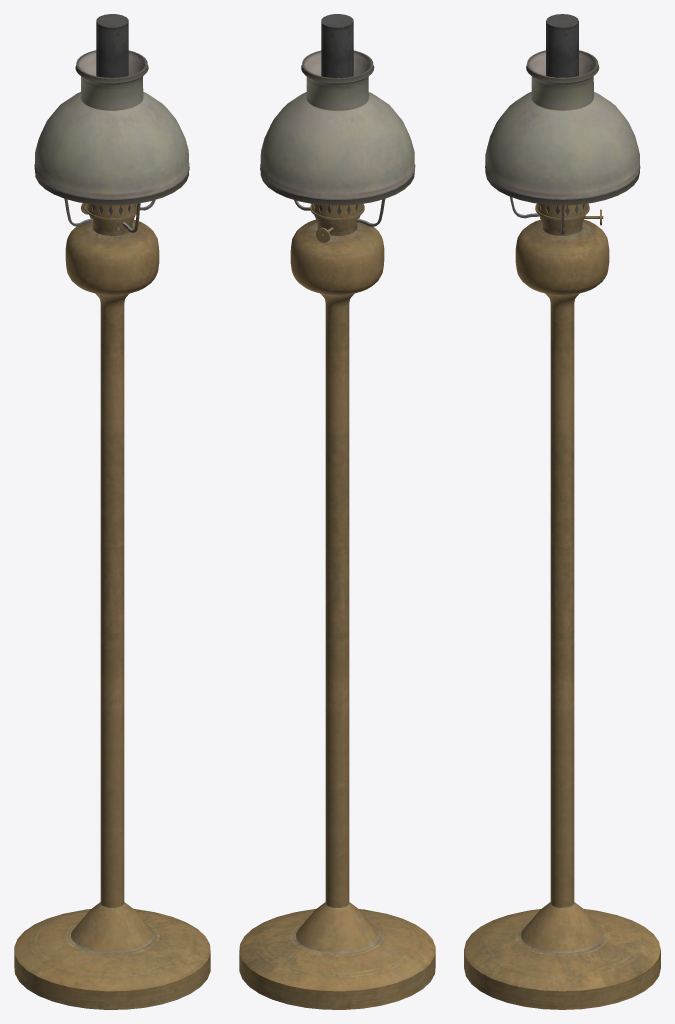
Rendered from lamp-oil-floor.glb.
The picture shows the model from 3 angles, left to right: view 1: azimuth 30°, elevation 25°; view 2: azimuth 150°, elevation 25°; view 3: azimuth 270°, elevation 25°; orthographic projection.
Visible parts, largest first — view 1: lamp-oil-floor; view 2: lamp-oil-floor; view 3: lamp-oil-floor.
Boxes of the visible parts, box(x1,y1,x2,y2) form: lamp-oil-floor: box(14, 14, 210, 1009); lamp-oil-floor: box(239, 14, 435, 1009); lamp-oil-floor: box(464, 14, 660, 1009).
Size of the model in its own units: 0.2761 by 1.47 by 0.2761.
1 material, 1 textured.
